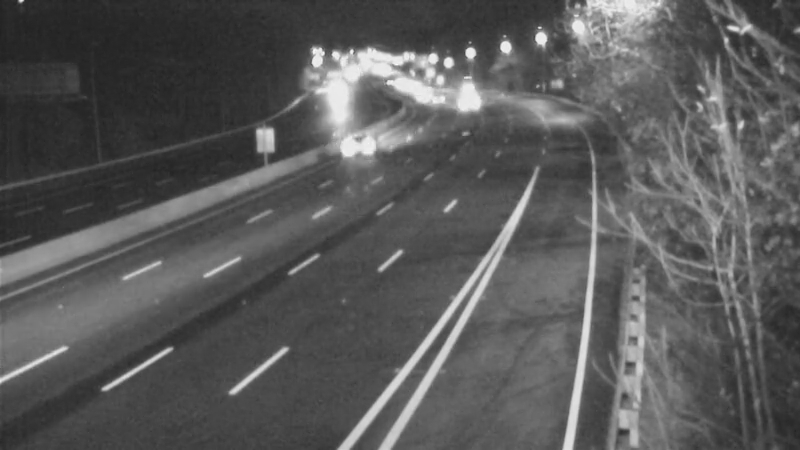vehicle: (443, 63, 493, 113), (400, 70, 450, 120), (410, 70, 460, 120), (334, 125, 384, 175), (315, 69, 365, 119)
